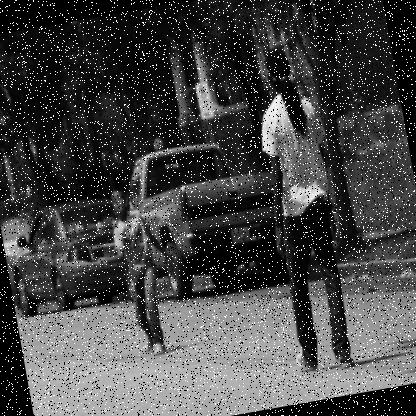Car: (0, 191, 141, 320)
